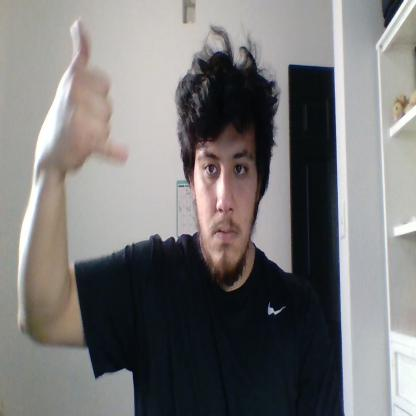Y: (60, 20, 128, 171)
